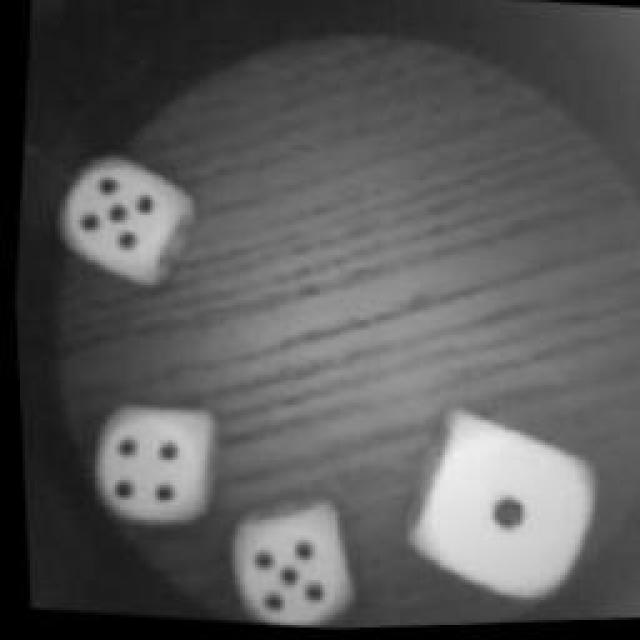dice_1: (392, 408, 608, 618)
dice_4: (76, 394, 226, 538)
dice_5: (49, 150, 201, 298), (216, 495, 359, 635)
